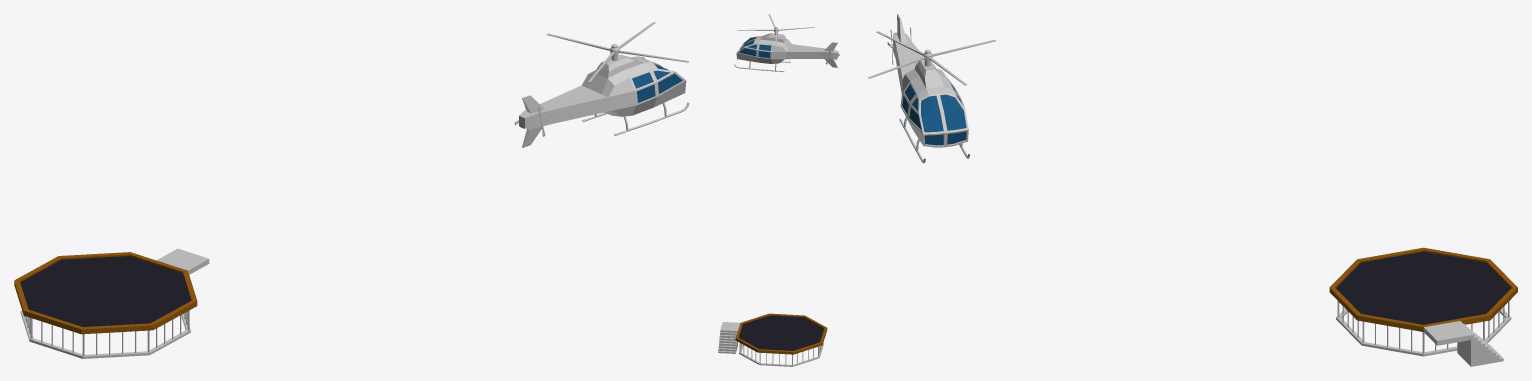
Rendered from copter_000095.obj.
3 views of the same model, side by side, from view 1: azimuth 30°, elevation 25°; view 2: azimuth 150°, elevation 25°; view 3: azimuth 270°, elevation 25° (orthographic). The views are drawn at different scales.
Visible parts, largest first — view 1: Cylinder.001_Cylinder.012, Helicopter.007_Cylinder.008, Helicopter.001_Cylinder.001; view 2: Cylinder.001_Cylinder.012, Helicopter.007_Cylinder.008, Helicopter.001_Cylinder.001, Cylinder.004; view 3: Cylinder.001_Cylinder.012, Helicopter.007_Cylinder.008, Helicopter.001_Cylinder.001.
Boxes of the visible parts, x1,y1,x2,y2 form: Cylinder.001_Cylinder.012: (14, 248, 209, 358); Helicopter.007_Cylinder.008: (519, 54, 689, 147); Helicopter.001_Cylinder.001: (546, 22, 689, 82); Cylinder.001_Cylinder.012: (718, 313, 827, 366); Helicopter.007_Cylinder.008: (734, 33, 838, 72); Helicopter.001_Cylinder.001: (737, 14, 814, 46); Cylinder.004: (743, 345, 786, 364); Cylinder.001_Cylinder.012: (1329, 247, 1517, 366); Helicopter.007_Cylinder.008: (892, 14, 969, 163); Helicopter.001_Cylinder.001: (868, 31, 995, 85).
Size of the model in its own units: 17.1 by 15.68 by 23.35.
